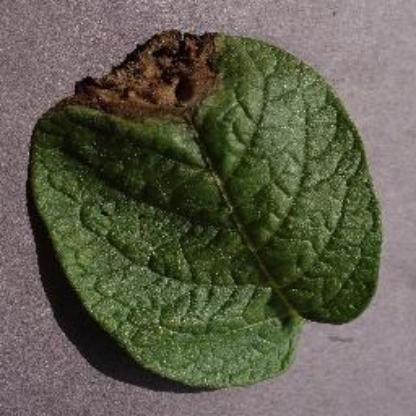Late-Blight: (21, 25, 390, 399)
